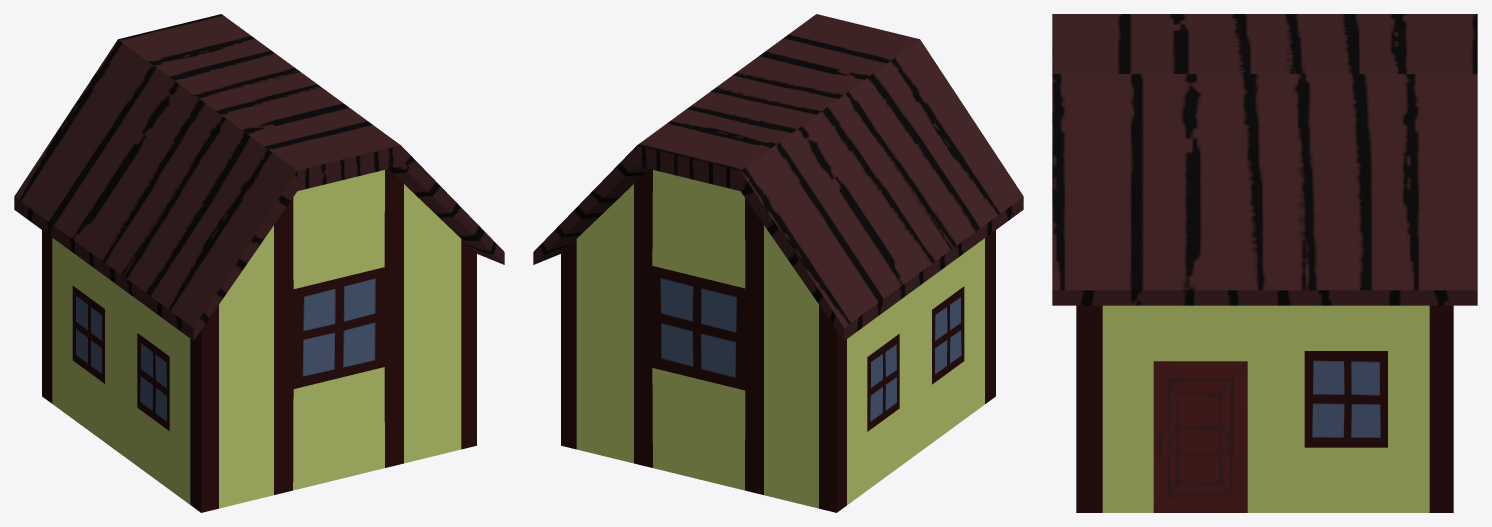
The model's file is House.fbx.
The picture shows the model from 3 angles, left to right: view 1: azimuth 30°, elevation 25°; view 2: azimuth 150°, elevation 25°; view 3: azimuth 270°, elevation 25°; orthographic projection. The views are drawn at different scales.
Parts seen in each view (by area): view 1: Cube.026; view 2: Cube.026; view 3: Cube.026.
Part boxes in pixels (box(x1,y1,x2,y2)): Cube.026: box(14, 14, 504, 512); Cube.026: box(533, 14, 1023, 512); Cube.026: box(1052, 14, 1477, 512).
Size of the model in its own units: 4.32 by 4.37 by 4.32.
